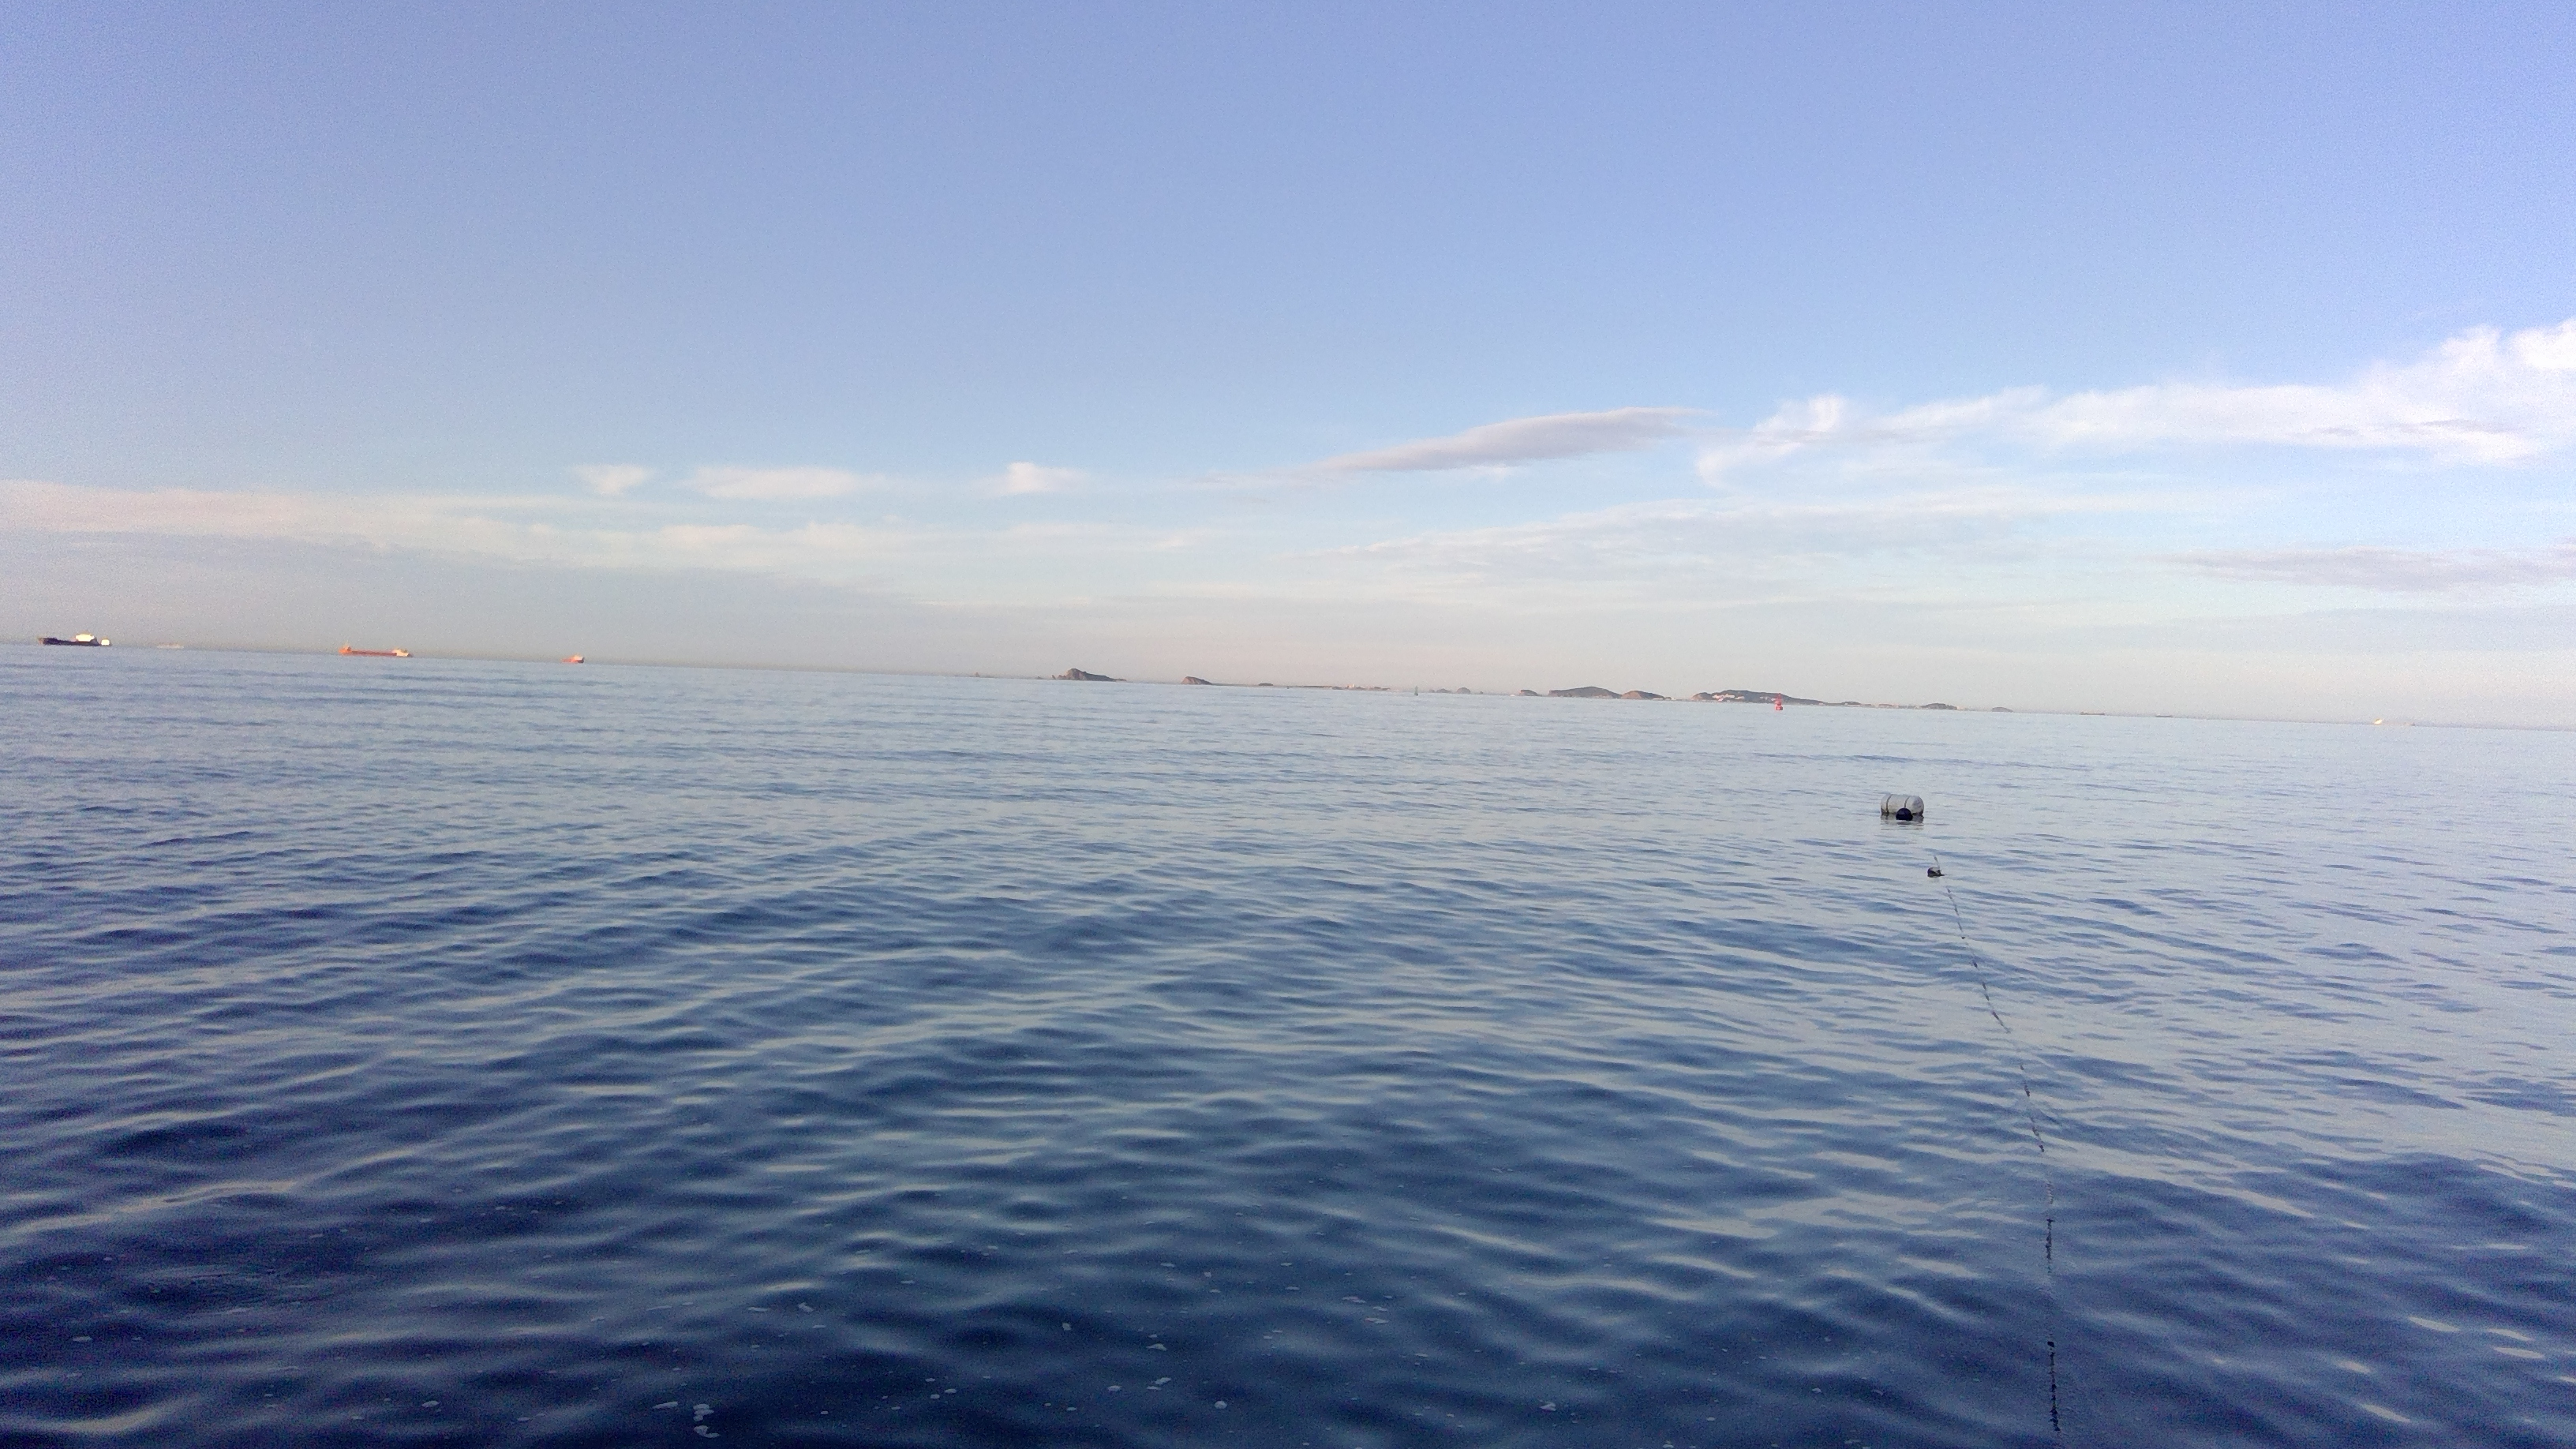buoy: (1764, 692, 1790, 715)
platform: (334, 642, 416, 663)
rock: (1695, 683, 1982, 709), (1504, 676, 1674, 704), (1040, 663, 1134, 688), (1178, 665, 1207, 695)
rubbish: (1872, 777, 1934, 828), (1921, 840, 1959, 886), (563, 651, 589, 667)
ship: (37, 619, 119, 655)
